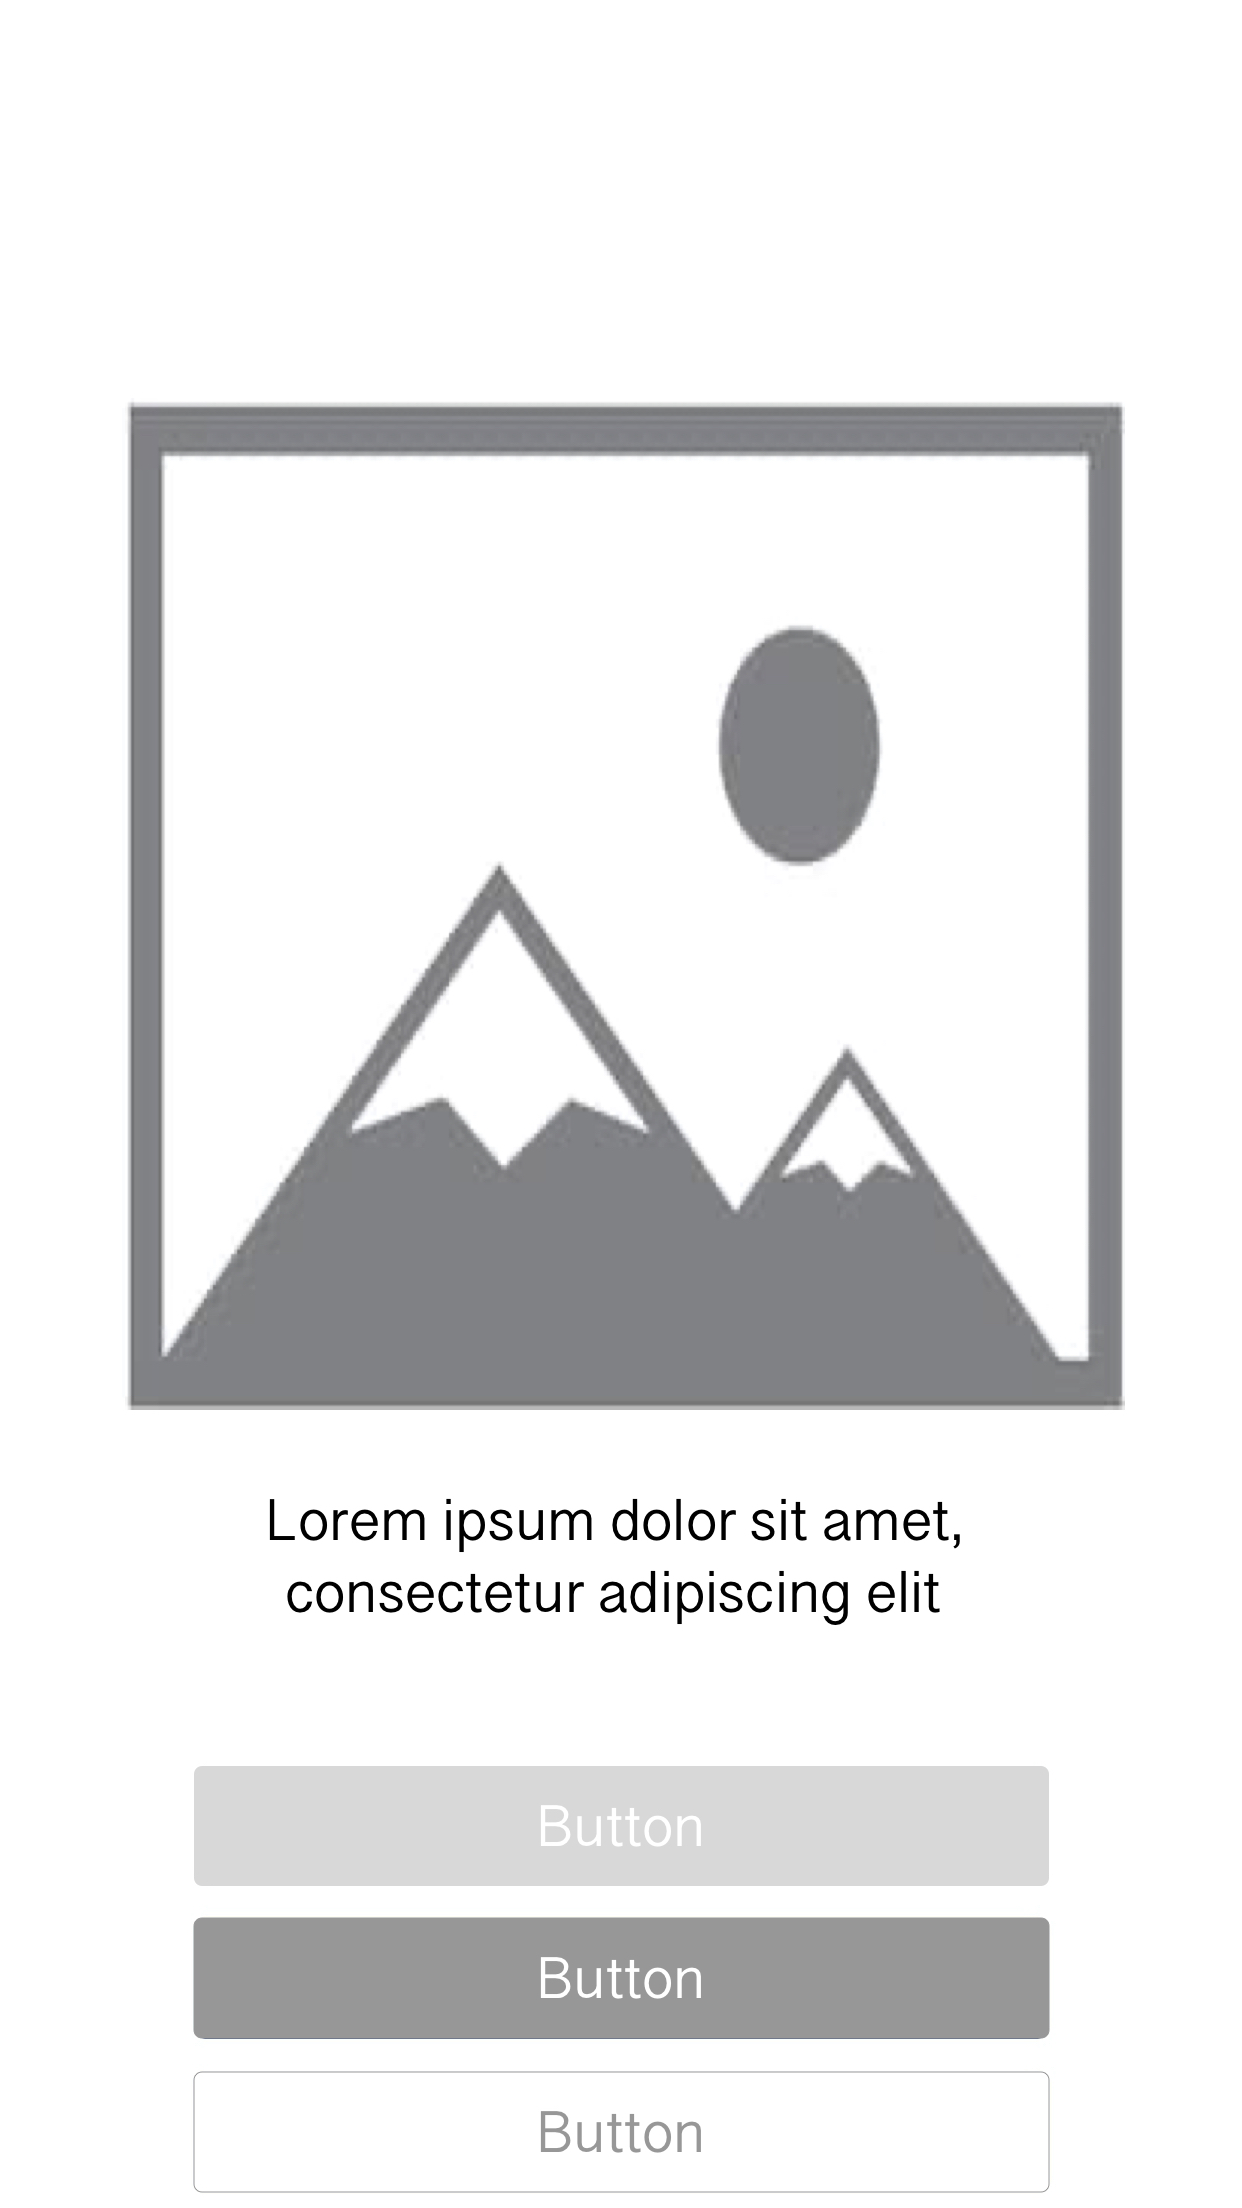Image: (127, 403, 1125, 1412)
Text: (270, 1497, 961, 1627)
TextButton: (193, 2070, 1051, 2194), (193, 1915, 1051, 2040), (194, 1765, 1049, 1887)
